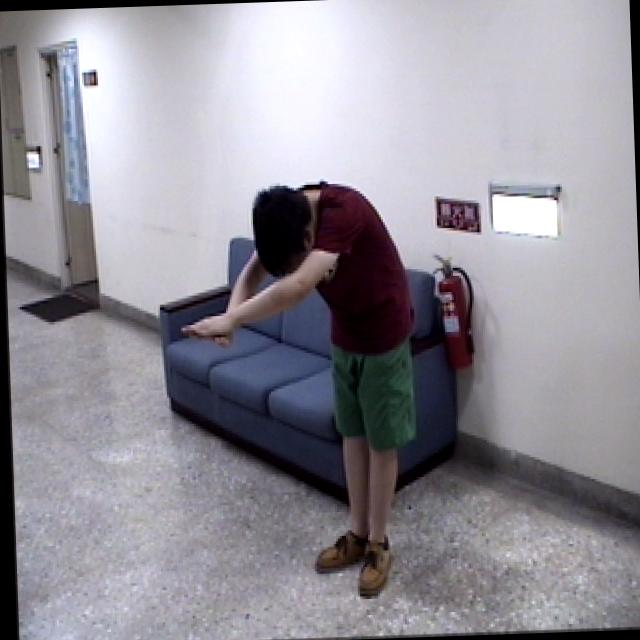bend: (176, 167, 430, 602)
